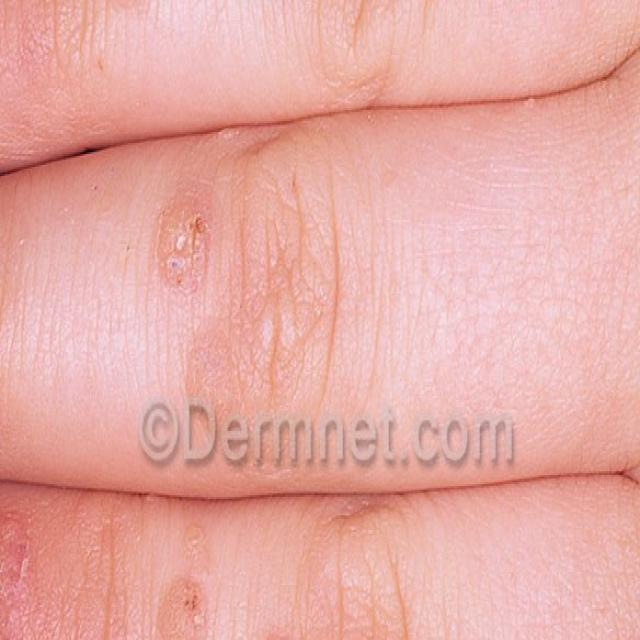Warts: (166, 198, 207, 307), (162, 555, 207, 640), (0, 493, 24, 640)
